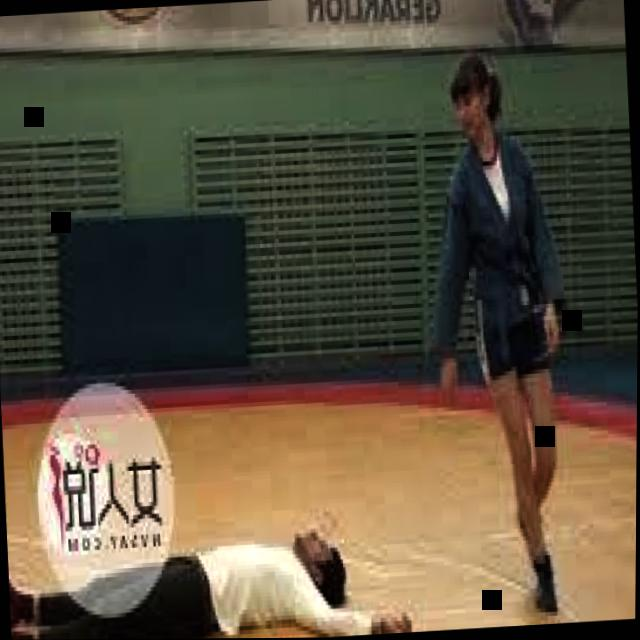Fall-Detected: (5, 483, 420, 640)
